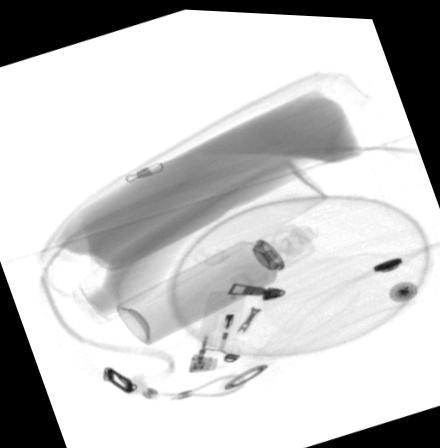Lighter: (186, 288, 244, 370)
Sprayer: (114, 218, 315, 342)
